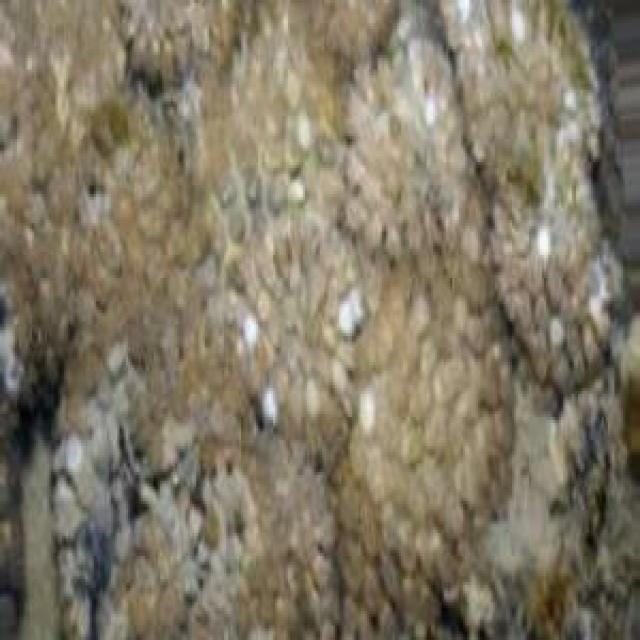Bleached: (2, 4, 515, 637), (564, 6, 621, 257), (510, 6, 557, 50), (449, 7, 496, 33), (536, 218, 555, 262), (564, 82, 581, 116), (590, 284, 604, 312)
